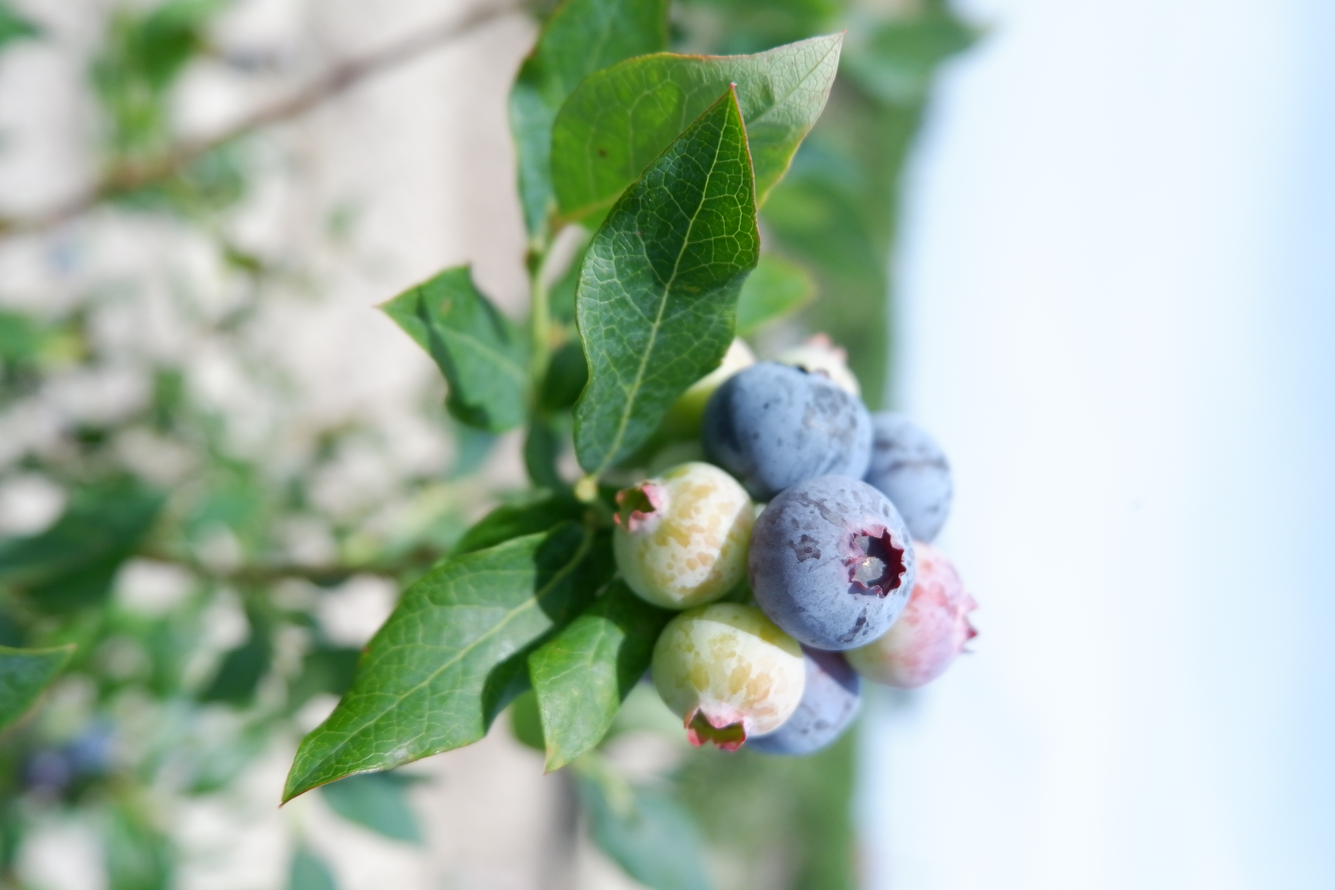Immature: (656, 606, 803, 746), (620, 465, 753, 605), (850, 549, 975, 687)
Mature: (751, 480, 910, 648), (703, 363, 868, 501), (749, 647, 860, 757), (864, 415, 950, 543)
